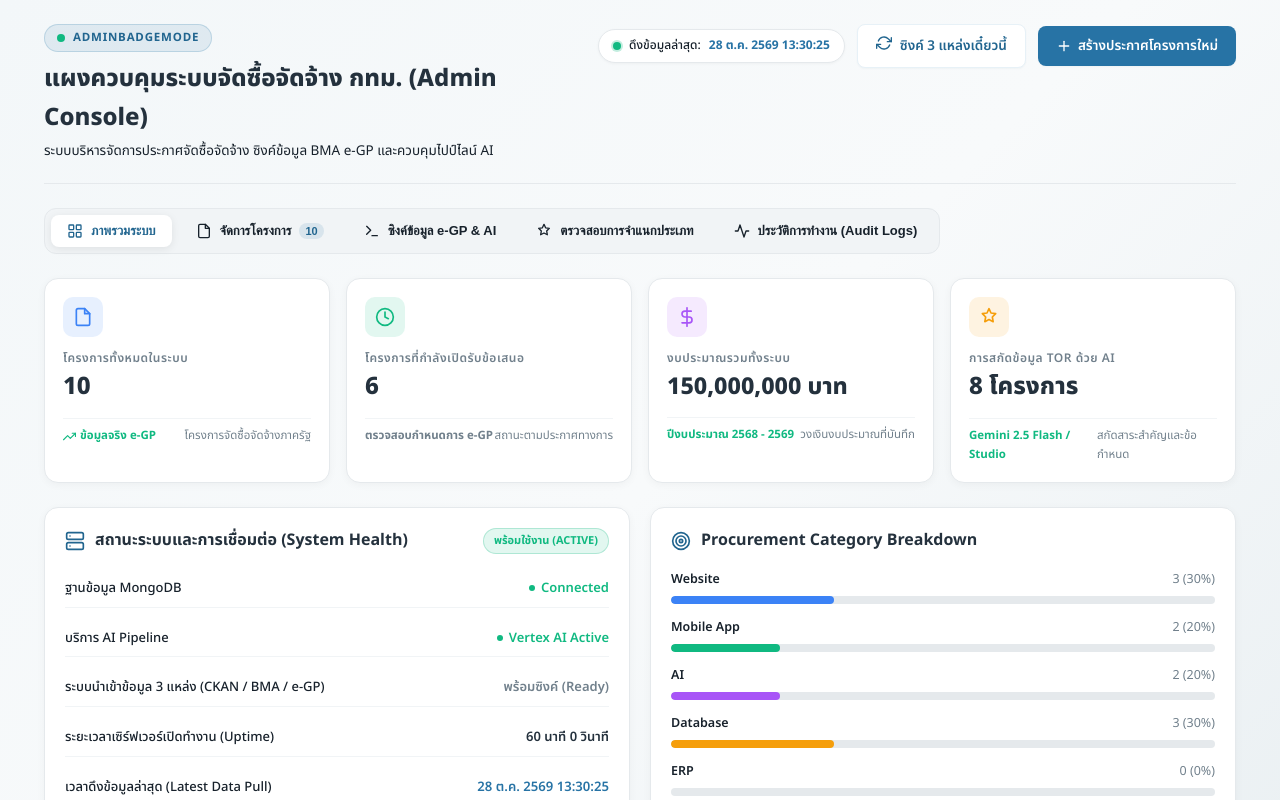
it: AdminPage component › opens ProjectFormModal in edit mode with UC-4 classification toggle
Click the button "จัดการโครงการ 10": {"x": 260, "y": 231} left=180, top=215, right=340, bottom=247
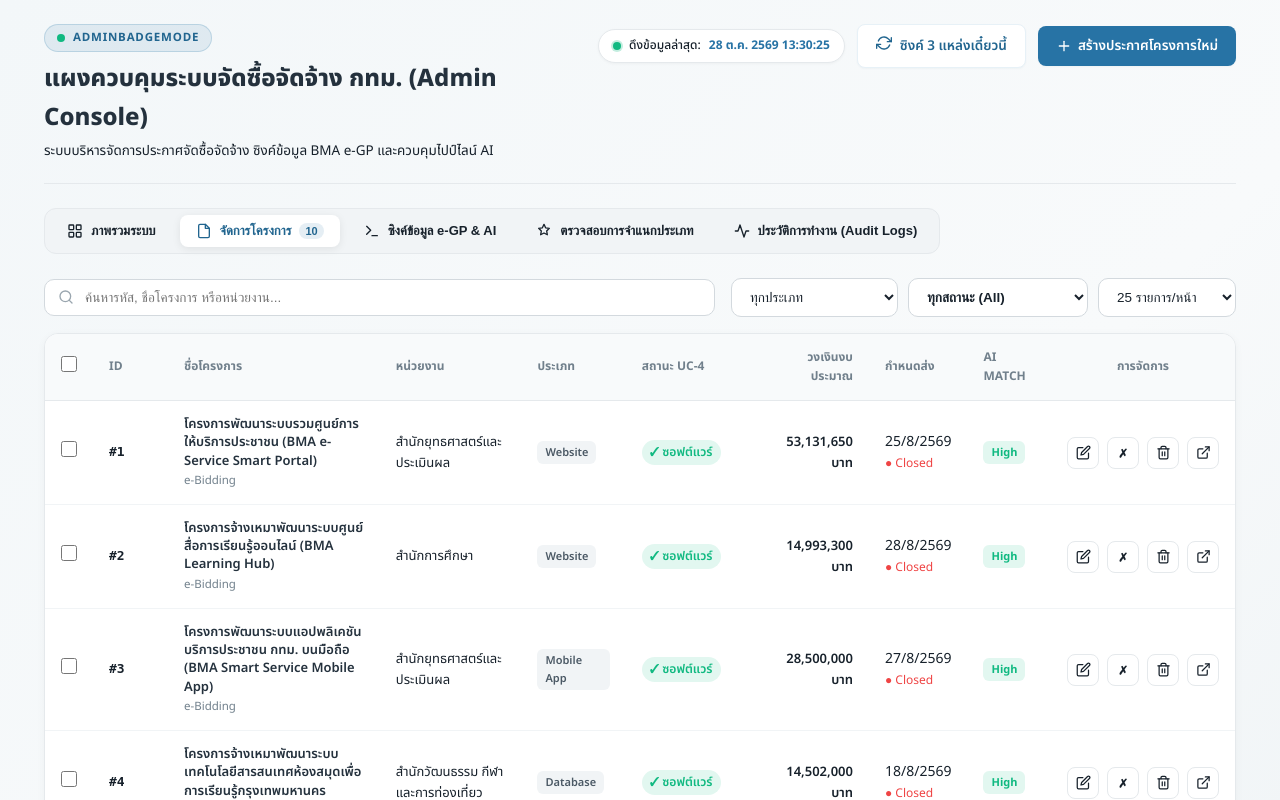
Expected: the button titled "แก้ไขประกาศโครงการ" in the row of "53,131,650 บาท" is shown
Click the button titled "แก้ไขประกาศโครงการ" in the row of "53,131,650 บาท": {"x": 1083, "y": 453} left=1067, top=437, right=1099, bottom=469
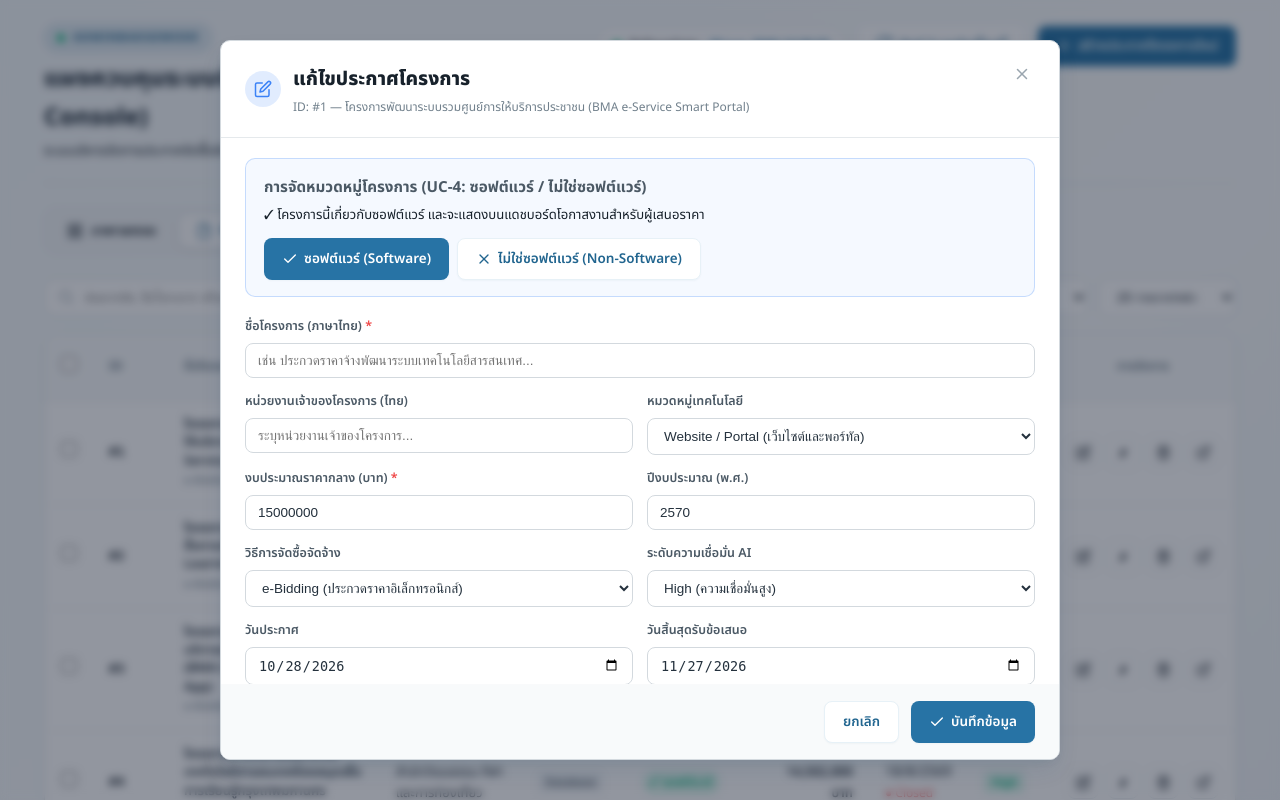
Expected: the dialog is shown
Expected: the text "การจัดหมวดหมู่โครงการ (UC-4: ซอฟต์แวร์ / ไม่ใช่ซอฟต์แวร์)" is shown, left=264, top=176, right=646, bottom=199
Expected: the button "ซอฟต์แวร์ (Software)" is shown, left=264, top=238, right=449, bottom=280
